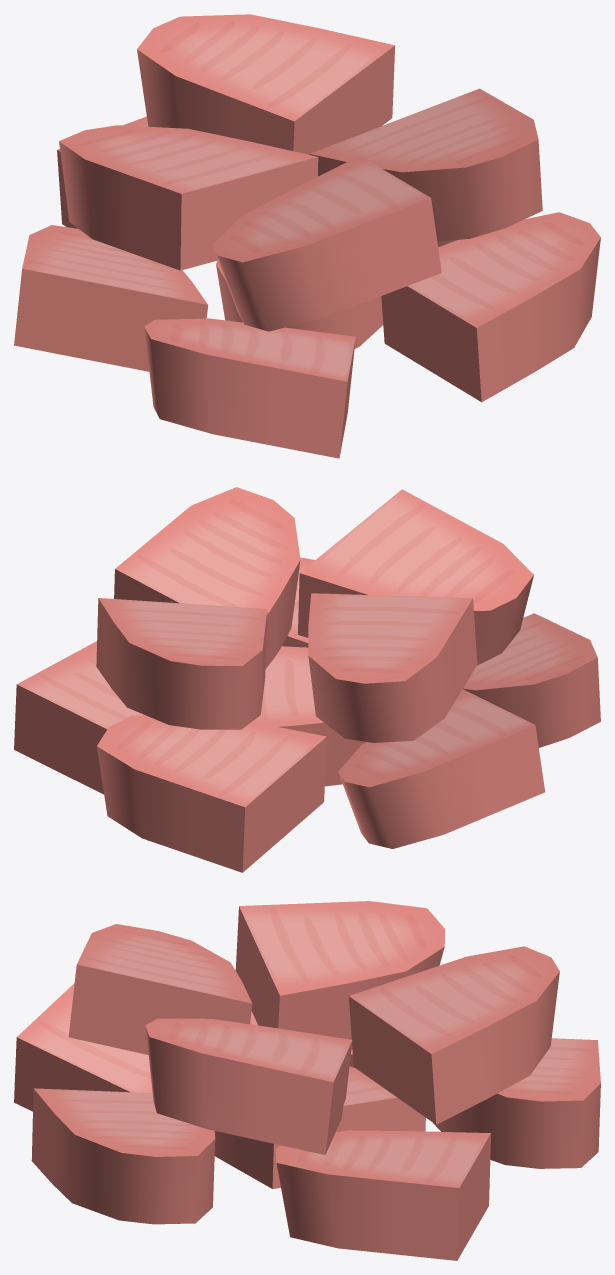
The model's file is Chicken_InPan.fbx.
3 renders of one model, top to bottom at view 1: azimuth 30°, elevation 25°; view 2: azimuth 150°, elevation 25°; view 3: azimuth 270°, elevation 25°, orthographic. The views are drawn at different scales.
Parts seen in each view (by area): view 1: Chicken_InPan; view 2: Chicken_InPan; view 3: Chicken_InPan.
Part boxes in pixels (bbox=[...]): Chicken_InPan: bbox=[14, 14, 600, 458]; Chicken_InPan: bbox=[14, 487, 600, 872]; Chicken_InPan: bbox=[14, 901, 600, 1260].
Size of the model in its own units: 0.7292 by 0.3217 by 0.7517.
Materials: 1 (1 with a texture image).
